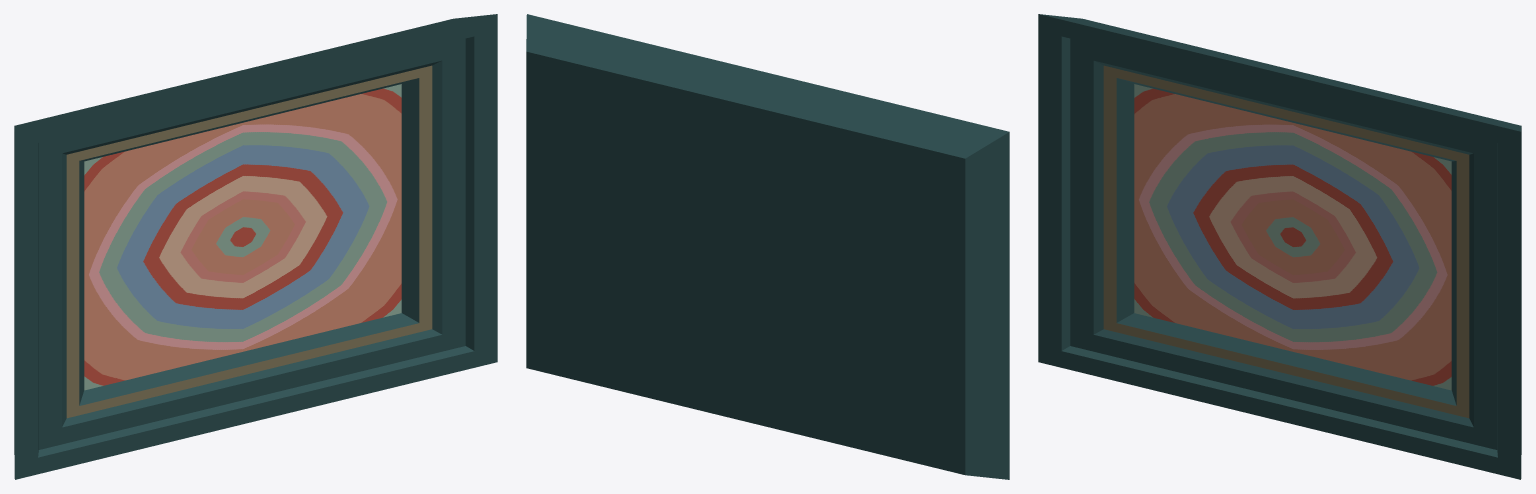
Rendered from painting1.fbx.
3 views of the same model, side by side, from view 1: azimuth 30°, elevation 25°; view 2: azimuth 150°, elevation 25°; view 3: azimuth 330°, elevation 25° (orthographic).
Visible parts, largest first — view 1: Plane; view 2: Plane; view 3: Plane.
Boxes of the visible parts, x1,y1,x2,y2 form: Plane: (14,14,497,479); Plane: (526,14,1009,479); Plane: (1038,14,1521,479).
Bounding box in the file's own units: 352 × 243 × 28.37.
Materials: 3 (1 with a texture image).
